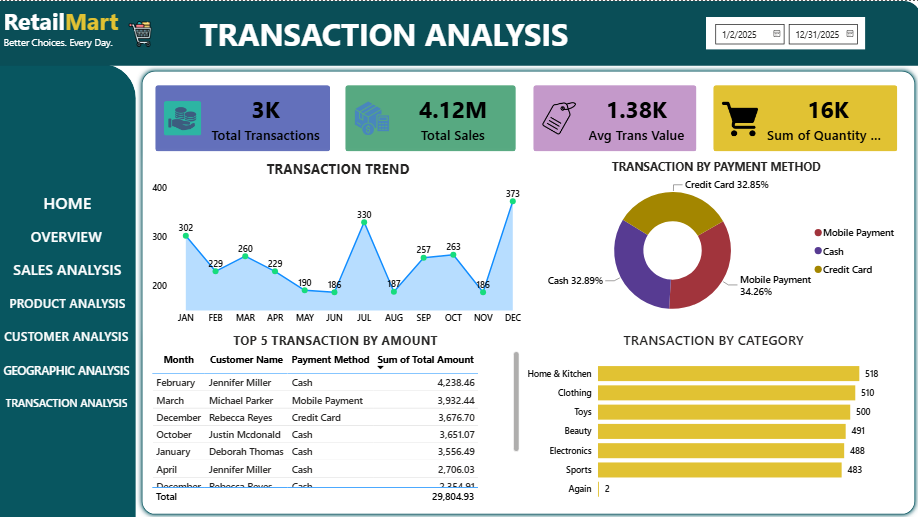

The page's visual inventory and layout, read from the dashboard file:
{"tool":"powerbi","page":{"name":"TRANSACTION","canvas":[1280,720],"ordinal":7},"visuals":[{"type":"shape","box":[190.1,88.7,1090.1,632.4],"z":0},{"type":"shape","box":[0,87.3,190.1,632.4],"z":1000},{"type":"shape","box":[0,0,1280.3,90.1],"z":2000},{"type":"cardVisual","fields":{"Data":["public Sales Data.Total Trannsactions"]},"box":[207,107,263.4,112.7],"z":3000},{"type":"cardVisual","fields":{"Data":["public Sales Data.Total Sales"]},"box":[470.4,107,257.7,112.7],"z":4000},{"type":"cardVisual","fields":{"Data":["public Sales Data.Avg Trans Value"]},"box":[732.4,107,247.9,112.7],"z":5000},{"type":"textbox","box":[1.4,0,262,90.1],"z":6000,"group":"g1"},{"type":"cardVisual","fields":{"Data":["Sum(public Sales Data.Quantity Purchased)"]},"box":[981.7,107,276.1,112.7],"z":6000},{"type":"donutChart","title":"TRANSACTION BY PAYMENT METHOD","fields":{"Category":["public Sales Data.Payment Method"],"Y":["public Sales Data.Total Transactions"]},"box":[735.2,219.7,522.5,238],"z":7000},{"type":"tableEx","title":"TOP 5 TRANSACTION BY AMOUNT","fields":{"Values":["public Sales Data.Date.Variation.Date Hierarchy.Month","public Sales Data.Customer Name","public Sales Data.Payment Method","Sum(public Sales Data.Total Amount)"]},"box":[207,457.7,521.1,246.5],"z":8000},{"type":"clusteredBarChart","title":"TRANSACTION BY CATEGORY","fields":{"Category":["public Sales Data.Category"],"Y":["public Sales Data.Total Transactions"]},"box":[728.2,457.7,529.6,246.5],"z":9000},{"type":"slicer","fields":{"Values":["public Sales Data.Date"]},"box":[981.7,22.5,221.1,45.1],"z":10000},{"type":"lineChart","title":"TRANSACTION TREND","fields":{"Category":["public Sales Data.MONTH_NAME"],"Y":["public Sales Data.Total Transactions"]},"box":[207,221.1,528.2,238],"z":11000},{"type":"textbox","box":[273.2,11.3,528.2,67.6],"z":12000},{"type":"shape","box":[0,256.3,190.1,325.4],"z":13000},{"type":"actionButton","box":[0,535.2,187.3,46.5],"z":14000},{"type":"actionButton","box":[1.4,349.3,187.3,46.5],"z":15000},{"type":"actionButton","box":[1.4,256.3,187.3,46.5],"z":16000},{"type":"actionButton","box":[0,488.7,187.3,46.5],"z":17000},{"type":"actionButton","box":[0,442.3,187.3,46.5],"z":18000},{"type":"actionButton","box":[1.4,395.8,187.3,46.5],"z":19000},{"type":"actionButton","box":[0,302.8,187.3,46.5],"z":20000},{"type":"group","id":"g1","title":"Group 1","box":[1.4,0,262,90.1],"z":21000},{"type":"image","box":[174.3,27.9,45,35.6],"z":30001,"group":"g1"}]}

Visuals, with their boxes in screenshot pixels (x1, y1, x2, y2), scaled from the page's 1280x720 canvas onto the 918x517 screenshot:
shape: 136,64,917,516
shape: 0,63,136,516
shape: 0,0,917,65
cardVisual - public Sales Data.Total Trannsactions: 148,77,337,158
cardVisual - public Sales Data.Total Sales: 337,77,522,158
cardVisual - public Sales Data.Avg Trans Value: 525,77,703,158
textbox: 1,0,189,65
cardVisual - Sum(public Sales Data.Quantity Purchased): 704,77,902,158
"TRANSACTION BY PAYMENT METHOD" donutChart: 527,158,902,329
"TOP 5 TRANSACTION BY AMOUNT" tableEx: 148,329,522,506
"TRANSACTION BY CATEGORY" clusteredBarChart: 522,329,902,506
slicer - public Sales Data.Date: 704,16,863,49
"TRANSACTION TREND" lineChart: 148,159,527,330
textbox: 196,8,575,57
shape: 0,184,136,418
actionButton: 0,384,134,418
actionButton: 1,251,135,284
actionButton: 1,184,135,217
actionButton: 0,351,134,384
actionButton: 0,318,134,351
actionButton: 1,284,135,318
actionButton: 0,217,134,251
"Group 1" group: 1,0,189,65
image: 125,20,157,46
